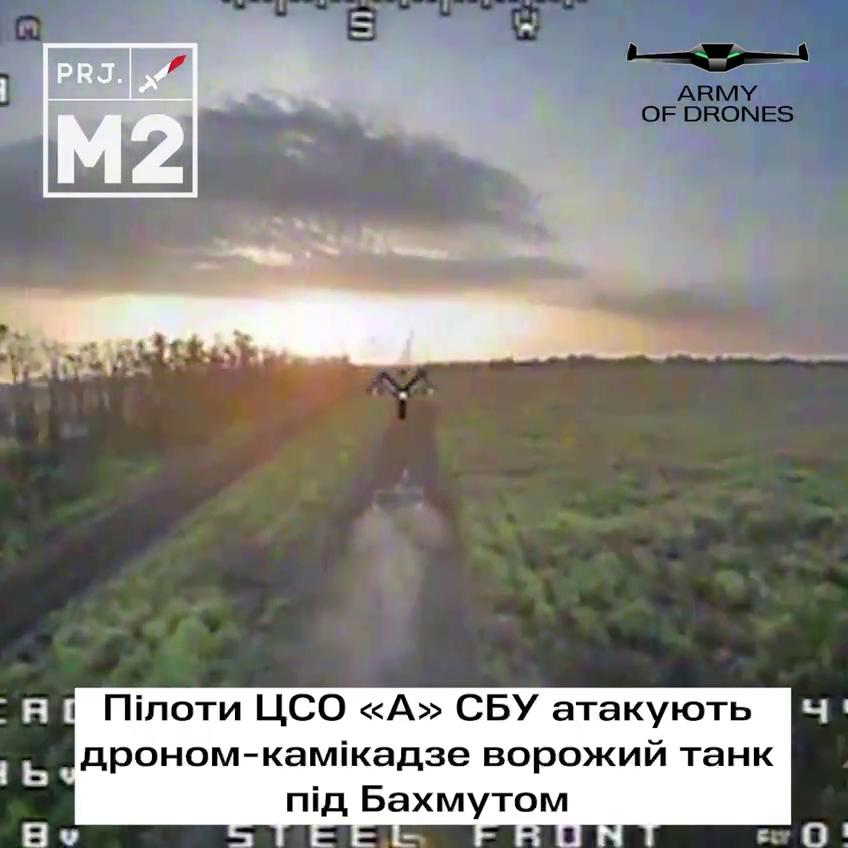tank: (354, 462, 446, 570)
